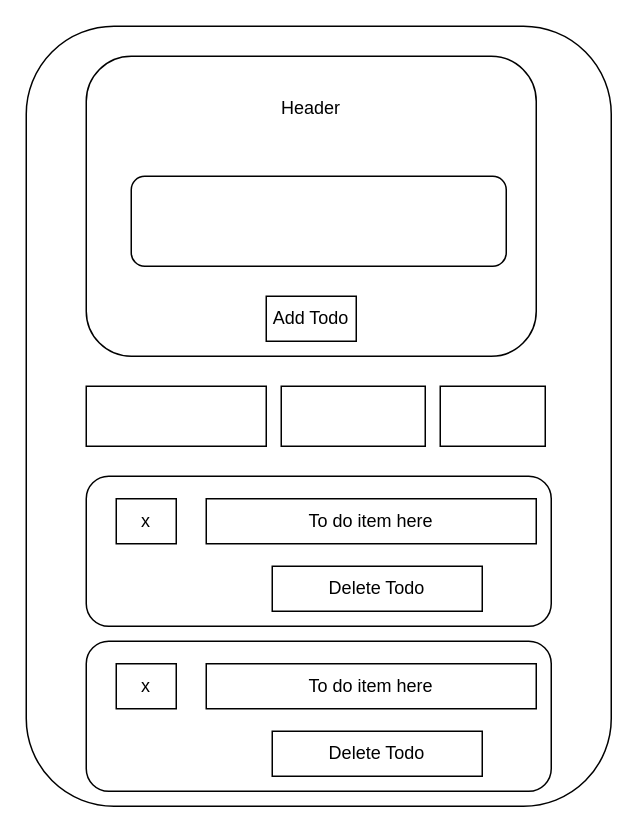
The diagram is 638 pixels wide and 833 high, and some of its shapes have lost their labels. Each missing label, with the centre of its shape:
Done: (492,415)
Filters: (175,415)
Pending: (352,415)
